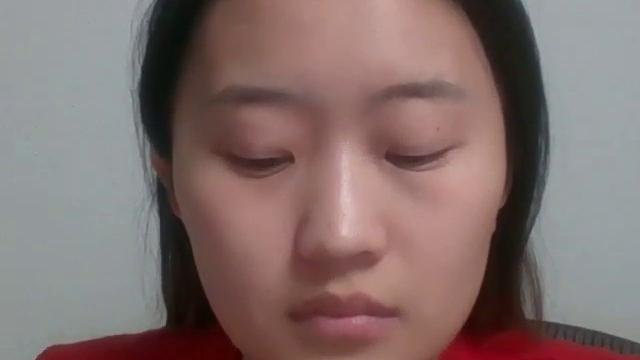eye: (396, 149, 426, 170), (249, 152, 276, 173)
iris: (387, 150, 447, 167), (231, 156, 292, 169)
